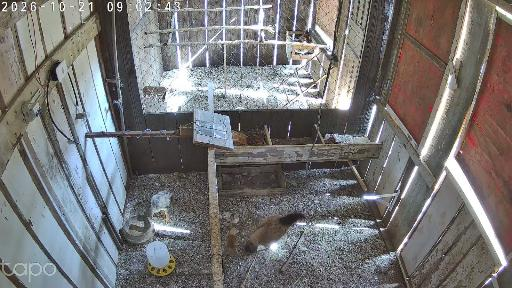frango: (148, 189, 176, 227)
galinha: (245, 211, 304, 256), (232, 128, 262, 146)
pintinho: (226, 229, 237, 258), (230, 212, 239, 228)
